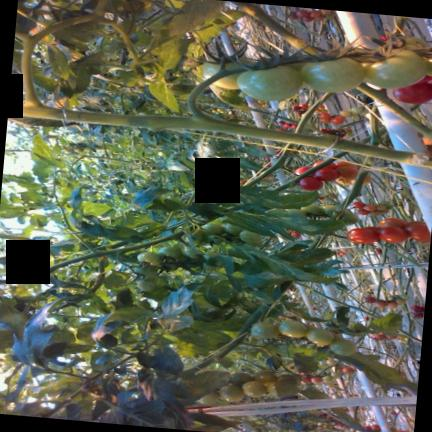6kp_peduncle: (162, 72, 243, 134), (268, 155, 298, 175), (104, 247, 132, 267)
6kp_petiole: (8, 73, 67, 120), (79, 238, 112, 259), (224, 332, 260, 350)
MainStem: (8, 102, 432, 167), (185, 302, 273, 374), (43, 229, 185, 272), (356, 83, 432, 144), (231, 1, 308, 50), (274, 151, 348, 190), (331, 155, 375, 218), (244, 143, 294, 185), (296, 91, 336, 131)
tomato: (361, 49, 427, 88), (237, 65, 302, 100), (300, 57, 365, 92), (201, 62, 240, 89), (393, 82, 432, 103), (347, 227, 378, 243), (377, 226, 408, 242), (251, 321, 280, 338), (278, 320, 307, 337), (306, 328, 334, 345), (404, 223, 430, 241), (218, 383, 244, 401), (329, 339, 357, 355), (242, 380, 266, 397), (203, 254, 225, 272), (253, 369, 277, 384), (137, 251, 162, 265), (298, 176, 323, 190), (314, 166, 338, 180), (378, 217, 407, 228), (239, 229, 262, 242), (230, 372, 253, 385), (336, 166, 357, 180), (157, 246, 181, 258), (198, 391, 220, 404), (340, 210, 359, 224), (202, 222, 224, 233), (135, 265, 157, 276), (300, 203, 323, 213), (224, 223, 243, 234), (333, 160, 358, 168), (182, 246, 202, 256), (137, 279, 155, 290), (266, 383, 277, 397), (369, 332, 387, 340), (322, 204, 336, 214), (425, 57, 432, 76), (162, 263, 178, 271), (336, 178, 353, 185), (286, 208, 305, 214), (330, 115, 344, 123), (295, 166, 309, 174), (339, 366, 355, 373), (296, 9, 309, 17), (377, 204, 388, 213), (349, 106, 363, 113), (373, 300, 387, 307), (396, 334, 408, 342), (363, 203, 376, 210), (364, 296, 377, 303), (411, 304, 424, 311), (321, 9, 332, 17), (311, 159, 323, 166), (331, 371, 343, 378), (356, 208, 369, 214), (327, 162, 338, 169), (322, 375, 333, 382), (311, 376, 322, 383), (387, 301, 398, 308), (309, 10, 320, 17), (339, 110, 351, 116), (407, 220, 425, 224), (363, 175, 371, 184), (353, 201, 365, 207), (412, 312, 424, 318), (204, 251, 218, 256), (395, 297, 405, 304), (319, 112, 330, 118), (399, 294, 410, 300), (289, 12, 298, 19), (350, 113, 360, 119), (376, 204, 386, 210), (369, 210, 381, 215), (319, 118, 330, 123), (302, 16, 313, 21), (301, 377, 310, 383), (385, 335, 396, 339), (345, 132, 353, 137)
